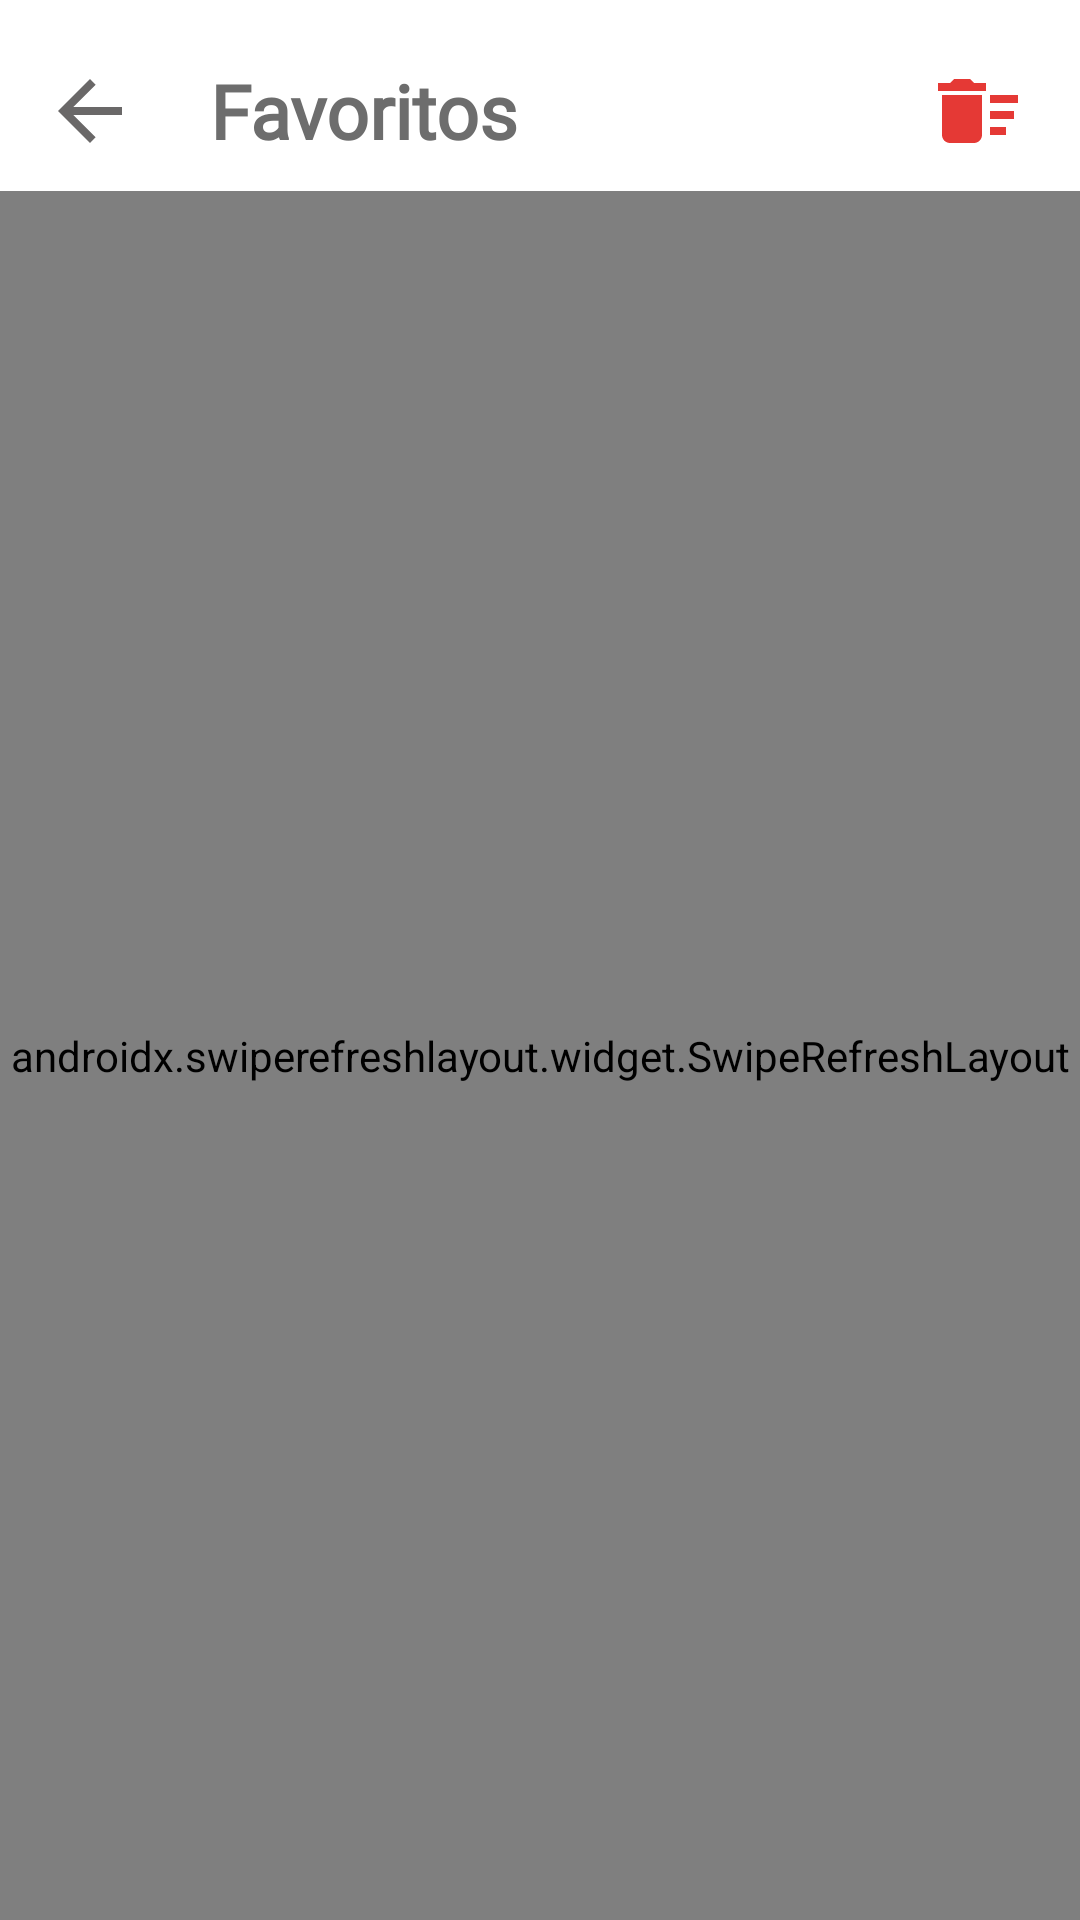

Icons on this 1080 × 1920 Android screen, each with the point to tap as (x=x, y=y):
arrow back: (x=90, y=111)
delete all: (x=978, y=111)
